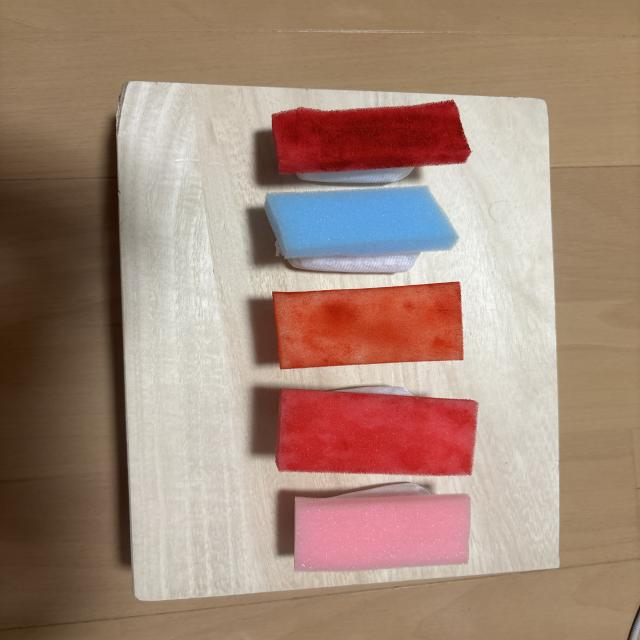NG: (265, 186, 458, 273)
maguro: (276, 387, 478, 475), (272, 100, 471, 184)
salmon: (273, 282, 463, 369)
tai: (294, 483, 470, 572)
